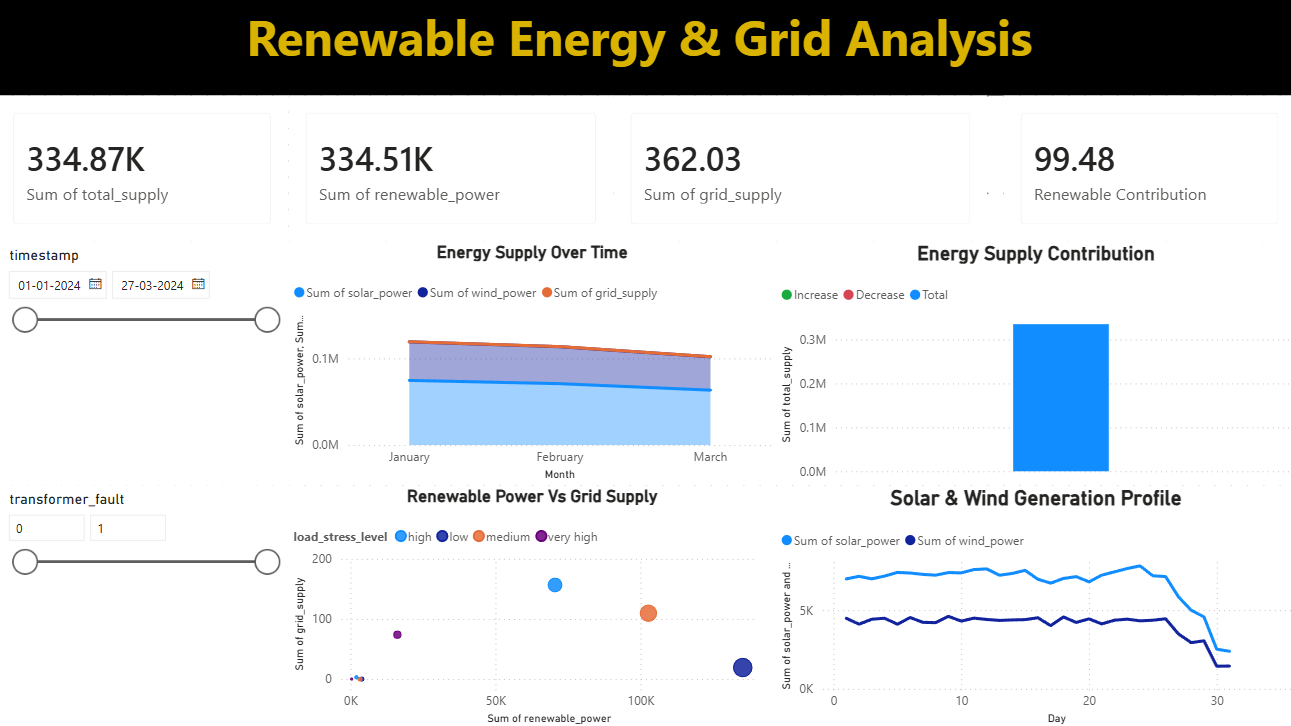

What the dashboard file says about the page in this screenshot:
{"tool":"powerbi","page":{"name":"Renewable Energy & Grid Analysis","canvas":[1280,720],"ordinal":3},"visuals":[{"type":"textbox","box":[0,0,1280,96],"z":0},{"type":"cardVisual","fields":{"Data":["Sum(energy_data.grid_supply)"]},"box":[608,96,368,144],"z":1},{"type":"cardVisual","fields":{"Data":["energy_data.Renewable Contribution"]},"box":[992,96,288,144],"z":2},{"type":"cardVisual","fields":{"Data":["Sum(energy_data.renewable_power)"]},"box":[288,96,320,144],"z":3},{"type":"cardVisual","fields":{"Data":["Sum(energy_data.total_supply)"]},"box":[0,96,288,144],"z":4},{"type":"slicer","fields":{"Values":["energy_data.timestamp"]},"box":[0,240,288,240],"z":5},{"type":"slicer","fields":{"Values":["energy_data.transformer_fault"]},"box":[0,480,288,240],"z":6},{"type":"stackedAreaChart","title":"Energy Supply Over Time ","fields":{"Category":["energy_data.timestamp.Variation.Date Hierarchy.Month"],"Y":["Sum(energy_data.solar_power)","Sum(energy_data.wind_power)","Sum(energy_data.grid_supply)"]},"box":[288,240,480,240],"z":7},{"type":"scatterChart","title":"Renewable Power Vs Grid Supply","fields":{"X":["Sum(energy_data.renewable_power)"],"Y":["Sum(energy_data.grid_supply)"],"Size":["Sum(energy_data.total_supply)"],"Series":["energy_data.load_stress_level"],"Category":["energy_data.transformer_fault"]},"box":[288,480,480,240],"z":8},{"type":"waterfallChart","title":"Energy Supply Contribution","fields":{"Y":["Sum(energy_data.total_supply)"]},"box":[768,240,512,240],"z":9},{"type":"lineChart","title":"Solar & Wind Generation Profile","fields":{"Category":["energy_data.timestamp.Variation.Date Hierarchy.Day"],"Y":["Sum(energy_data.solar_power)","Sum(energy_data.wind_power)"]},"box":[768,480,512,240],"z":10}]}

Visuals, with their boxes in screenshot pixels (x1, y1, x2, y2), scaled from the page's 1280x720 canvas onto the 1291x726 screenshot:
textbox: <box>0,0,1290,97</box>
cardVisual - Sum(energy_data.grid_supply): <box>613,97,984,242</box>
cardVisual - energy_data.Renewable Contribution: <box>1001,97,1290,242</box>
cardVisual - Sum(energy_data.renewable_power): <box>290,97,613,242</box>
cardVisual - Sum(energy_data.total_supply): <box>0,97,290,242</box>
slicer - energy_data.timestamp: <box>0,242,290,484</box>
slicer - energy_data.transformer_fault: <box>0,484,290,725</box>
"Energy Supply Over Time " stackedAreaChart: <box>290,242,775,484</box>
"Renewable Power Vs Grid Supply" scatterChart: <box>290,484,775,725</box>
"Energy Supply Contribution" waterfallChart: <box>775,242,1290,484</box>
"Solar & Wind Generation Profile" lineChart: <box>775,484,1290,725</box>
